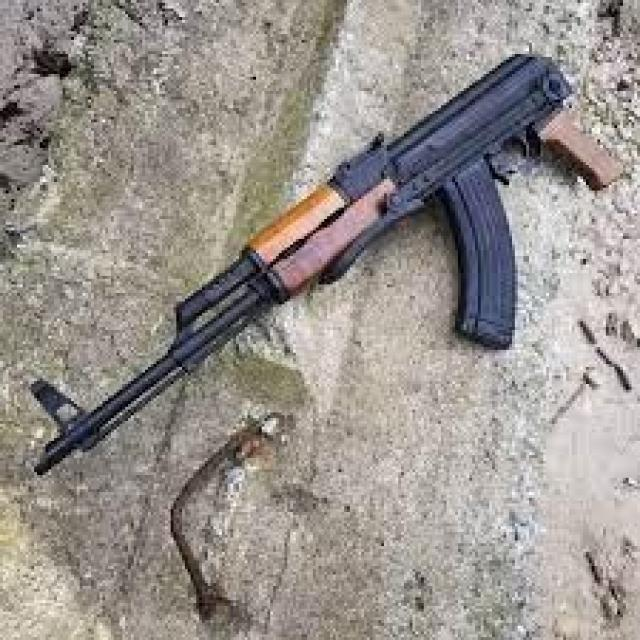gun: (31, 60, 623, 474)
